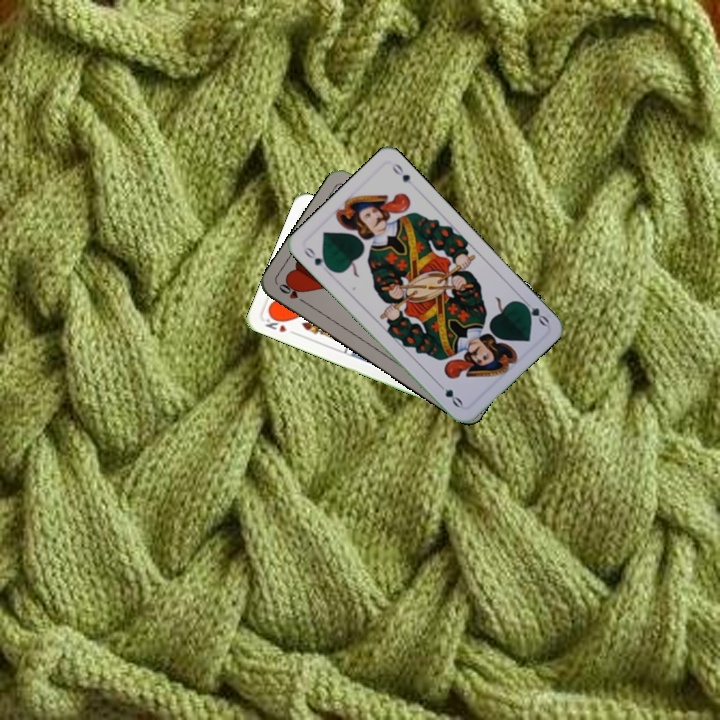GO: (516, 295, 552, 329), (299, 243, 334, 273)
HK: (261, 311, 299, 338)
HO: (275, 279, 311, 307)
